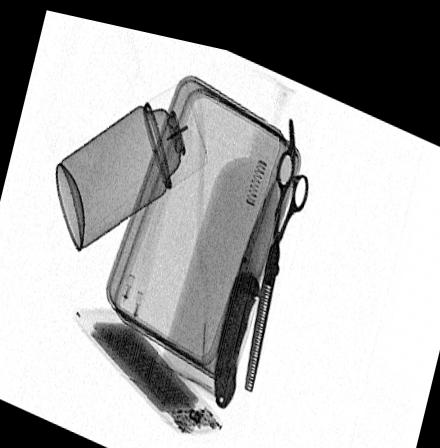Knife: (213, 137, 285, 405)
Powerbank: (69, 296, 223, 428)
Scissors: (240, 101, 309, 386)
Sprayer: (53, 74, 206, 248)
